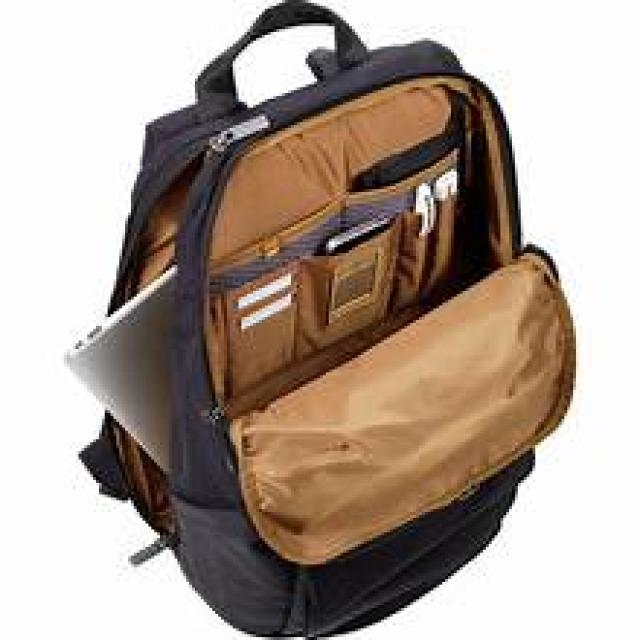backpack: (68, 1, 577, 638)
